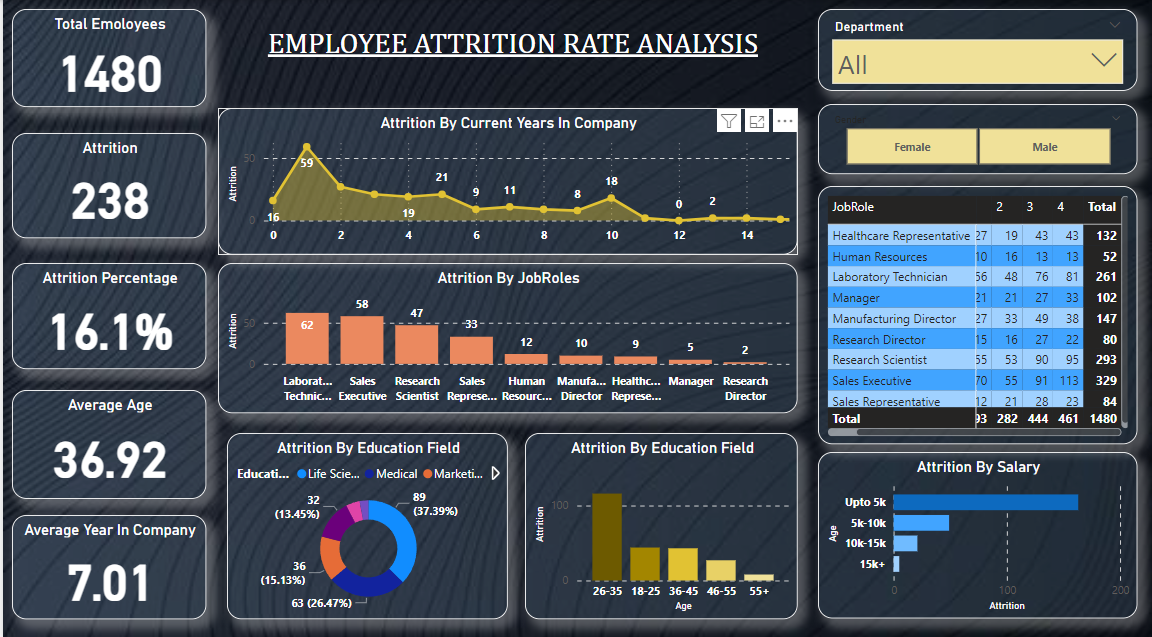

The dashboard page shown, as its layout file describes it:
{"tool":"powerbi","page":{"name":"Page 1","canvas":[1280,720],"ordinal":0},"visuals":[{"type":"card","title":"Total Emoloyees","fields":{"Values":["Sum(HR_Analytics.EmployeeCount)"]},"box":[10.3,19.3,215.9,109.2],"z":0},{"type":"card","title":"Attrition","fields":{"Values":["Sum(HR_Analytics.Attrition_)"]},"box":[10.3,156.8,215.9,116.9],"z":1},{"type":"card","title":"Attrition Percentage","fields":{"Values":["HR_Analytics.Attriiton Percentage"]},"box":[10.3,300.7,215.9,118.2],"z":2},{"type":"card","title":"Average Age","fields":{"Values":["Avg(HR_Analytics.Age)"]},"box":[10.3,442.1,215.9,120.8],"z":3},{"type":"card","title":"Average Year In Company","fields":{"Values":["Avg(HR_Analytics.YearsAtCompany)"]},"box":[10.3,580.9,215.9,115.7],"z":4},{"type":"donutChart","title":"Attrition By Education Field","fields":{"Y":["Sum(HR_Analytics.Attrition_)"],"Category":["HR_Analytics.EducationField"]},"box":[249.3,489.6,312.3,206.9],"z":5},{"type":"columnChart","title":"Attrition By Education Field","fields":{"Category":["HR_Analytics.AgeGroup"],"Y":["Sum(HR_Analytics.Attrition_)"]},"box":[579.6,489.6,303.3,206.9],"z":6},{"type":"barChart","title":"Attrition By Salary","fields":{"Category":["HR_Analytics.SalarySlab"],"Y":["Sum(HR_Analytics.Attrition_)"]},"box":[906,511.5,354.7,185.1],"z":7},{"type":"columnChart","title":"Attrition By JobRoles","fields":{"Y":["Sum(HR_Analytics.Attrition_)"],"Category":["HR_Analytics.JobRole"]},"box":[239,300.7,643.9,167.1],"z":8},{"type":"areaChart","title":"Attrition By Current Years In Company","fields":{"Y":["Sum(HR_Analytics.Attrition_)"],"Category":["HR_Analytics.YearsAtCompany"]},"box":[239,128.5,643.9,163.2],"z":9},{"type":"pivotTable","title":"Attrition By Current Years In Company","fields":{"Rows":["HR_Analytics.JobRole"],"Columns":["HR_Analytics.JobSatisfaction"],"Values":["Sum(HR_Analytics.EmployeeCount)"]},"box":[906,215.9,354.7,286.6],"z":10},{"type":"slicer","title":"Attrition","fields":{"Values":["HR_Analytics.Gender"]},"box":[906,124.7,354.7,78.4],"z":11},{"type":"slicer","title":"Attrition","fields":{"Values":["HR_Analytics.Department"]},"box":[906,19.3,354.7,91.2],"z":12},{"type":"textbox","box":[239,32.1,655.4,66.8],"z":13}]}

Visuals, with their boxes in screenshot pixels (x1, y1, x2, y2), scaled from the page's 1280x720 canvas onto the 1152x637 screenshot:
"Total Emoloyees" card: [9,17,204,114]
"Attrition" card: [9,139,204,242]
"Attrition Percentage" card: [9,266,204,371]
"Average Age" card: [9,391,204,498]
"Average Year In Company" card: [9,514,204,616]
"Attrition By Education Field" donutChart: [224,433,505,616]
"Attrition By Education Field" columnChart: [522,433,795,616]
"Attrition By Salary" barChart: [815,453,1135,616]
"Attrition By JobRoles" columnChart: [215,266,795,414]
"Attrition By Current Years In Company" areaChart: [215,114,795,258]
"Attrition By Current Years In Company" pivotTable: [815,191,1135,445]
"Attrition" slicer: [815,110,1135,180]
"Attrition" slicer: [815,17,1135,98]
textbox: [215,28,805,87]
